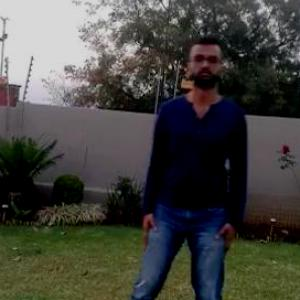follow: (146, 42, 246, 299)
